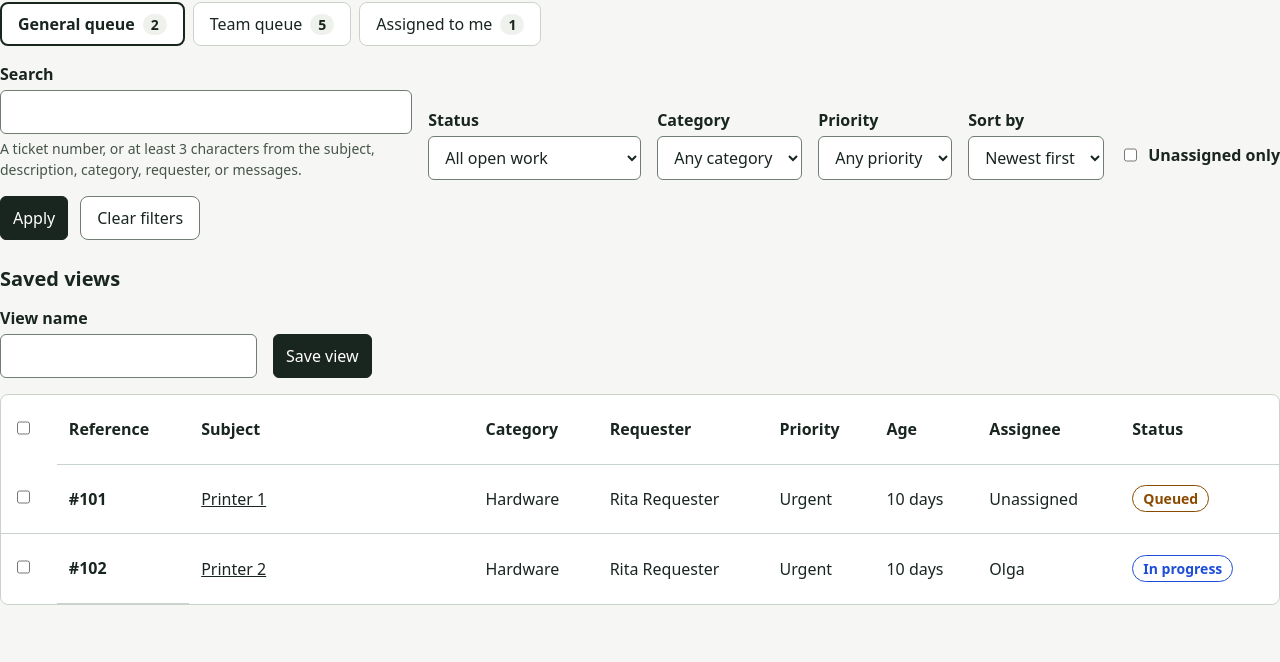
Test case: bulk actions send each ticket with its listed version and report failures per ticket
Step 1. Click the checkbox named "Select all tickets on this page" → click(24, 428), box [17, 406, 30, 450]
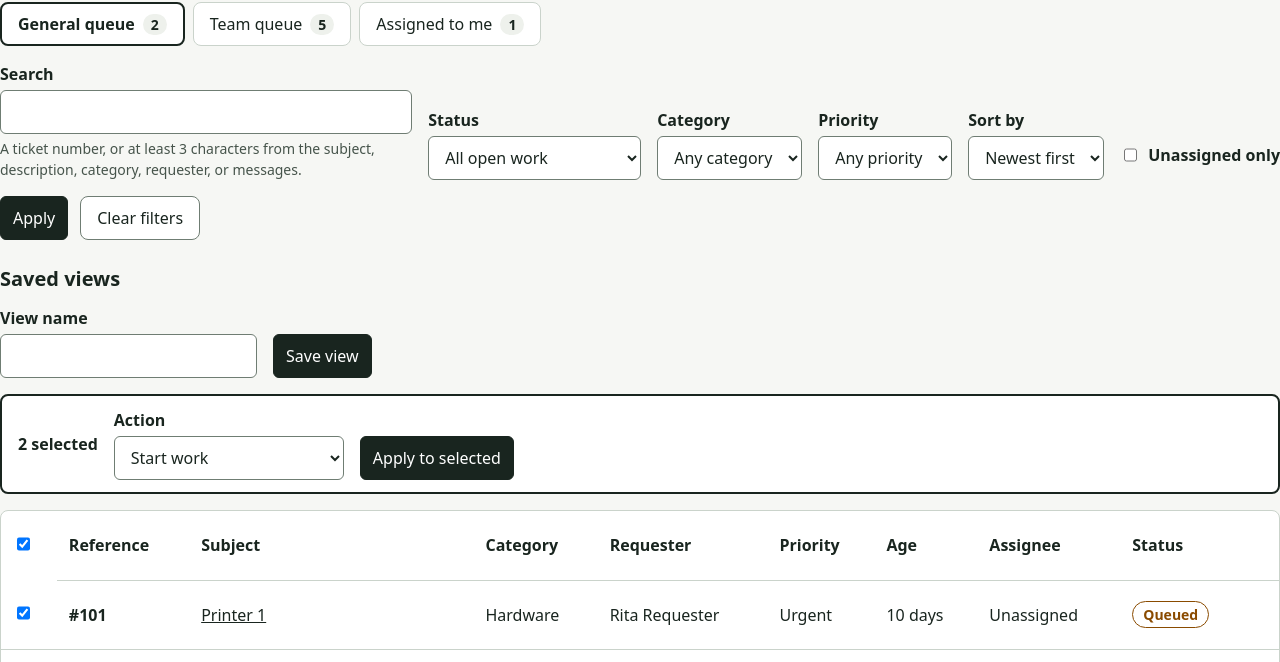
Expected: the form named "Change selected tickets" shows "2 selected", [18, 433, 98, 455]
Step 2. Select "Send to team" in the dropdown labelled "Action" → (229, 458), box [114, 436, 344, 480]
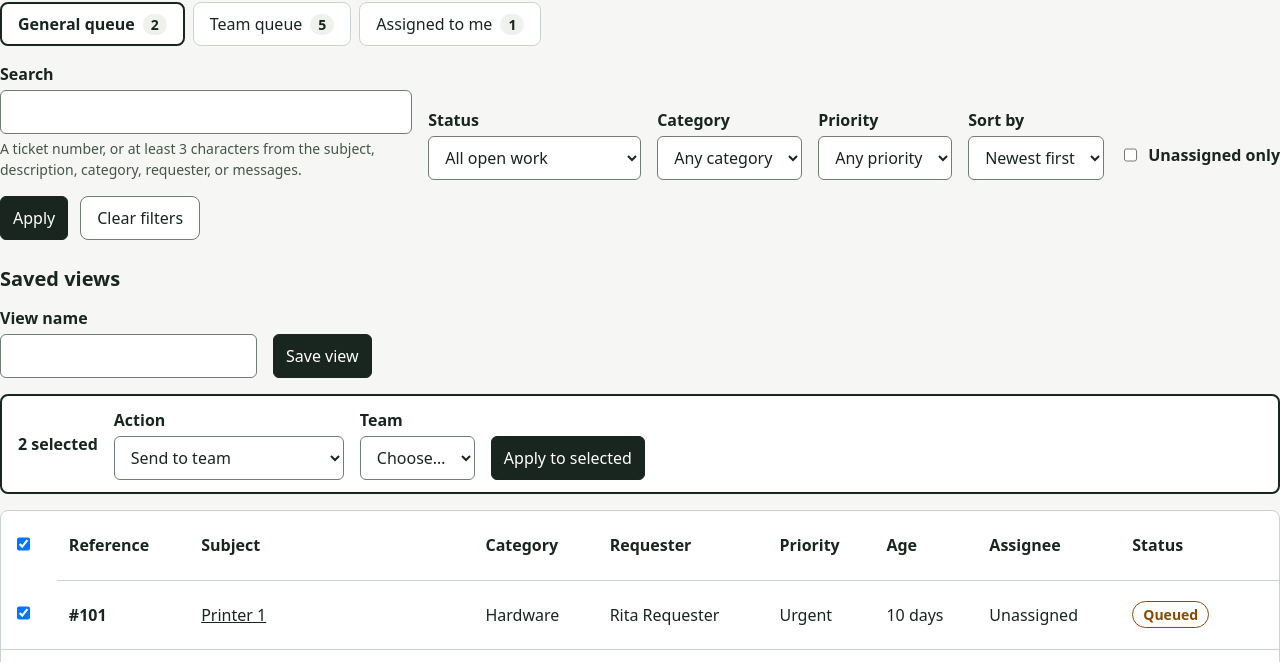
Step 3. Select "Desk" in the dropdown labelled "Team" → (417, 458), box [360, 436, 475, 480]
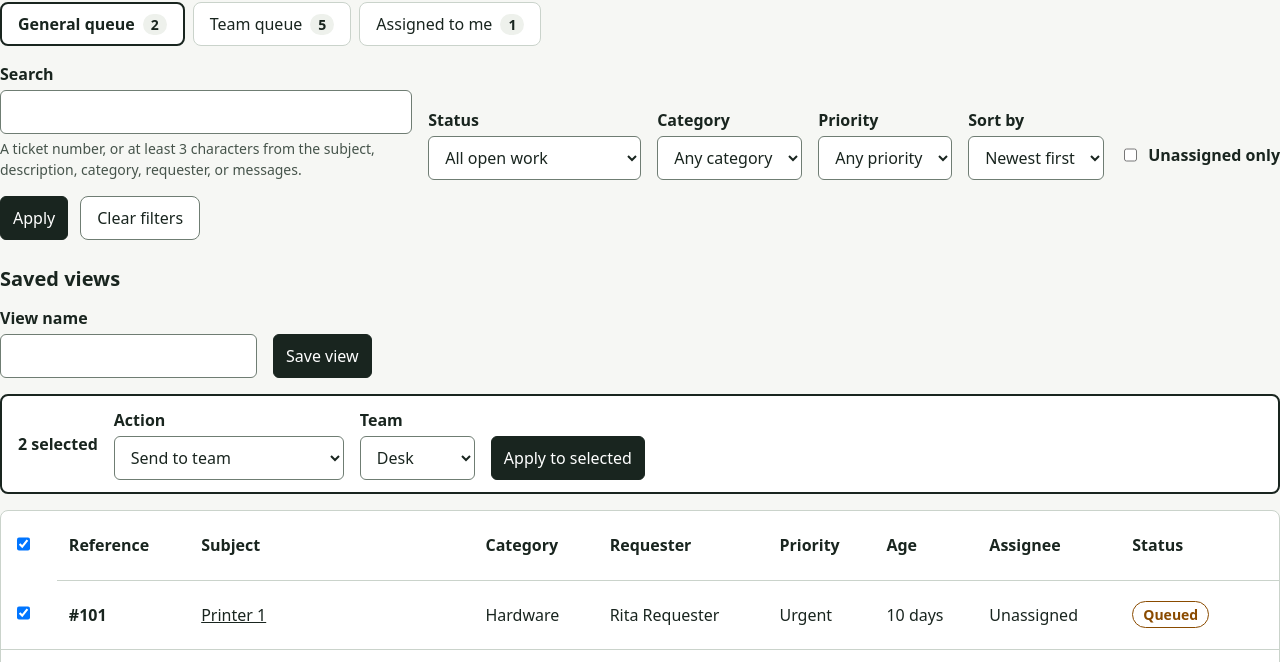
Step 4. Submit the form named "Change selected tickets", box [0, 394, 1279, 494]
(page scrolled)
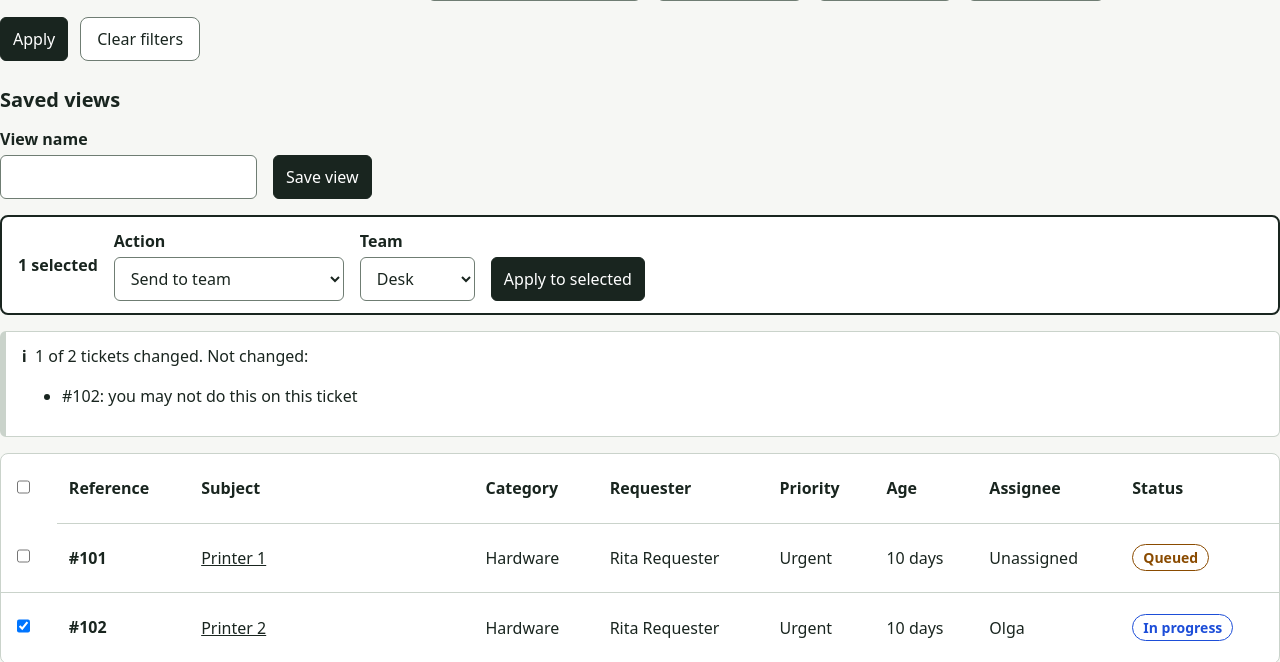
Expected: the checkbox named "Select #102" is checked, [17, 604, 30, 648]
Expected: the text "1 of 2 tickets changed. Not changed: #102: you may not do this on this ticket" is shown, [0, 331, 1279, 437]
Expected: the checkbox named "Select #101" is not checked, [17, 534, 30, 578]
